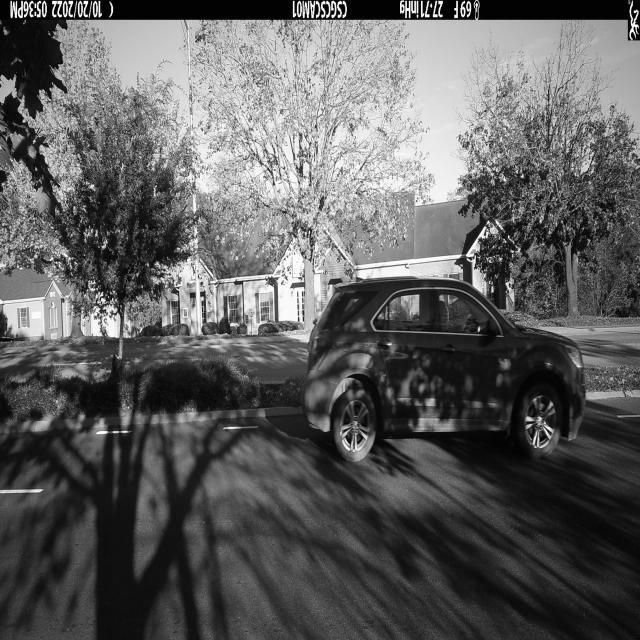SUV: (302, 277, 587, 465)
